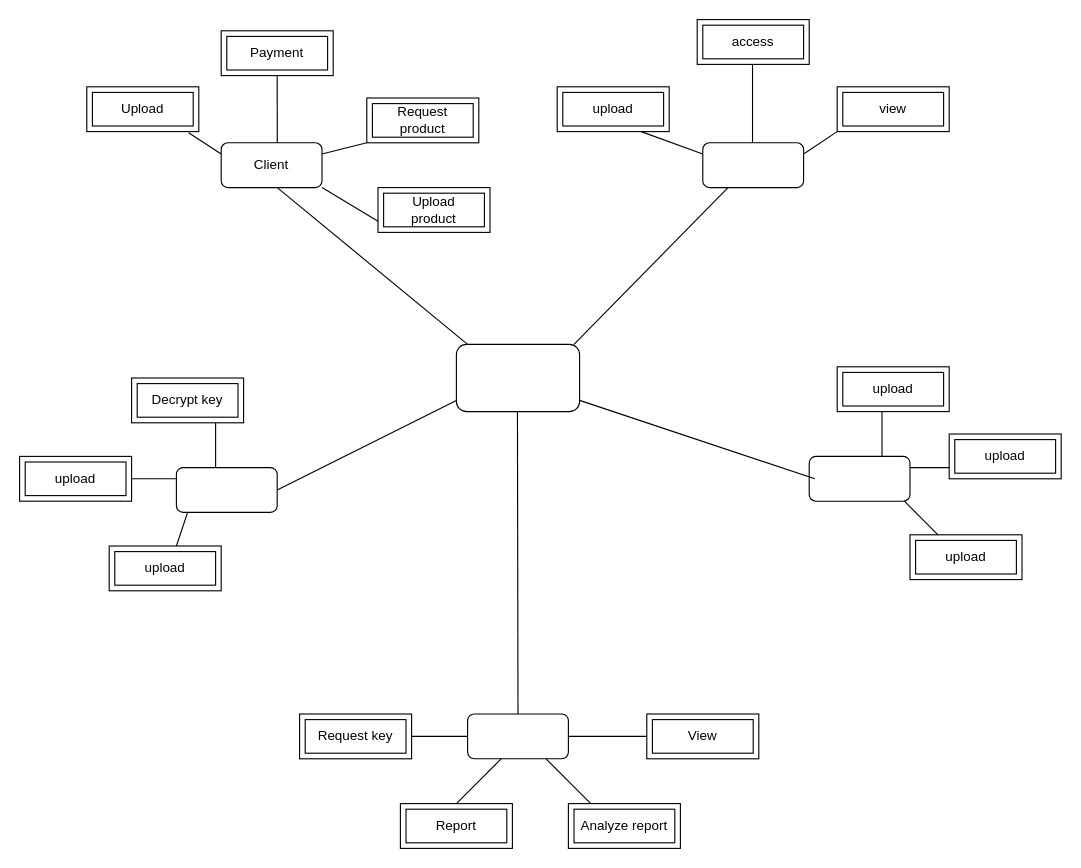
This 1081x868 diagram has some shape labels left out. Each missing label, with the centre of its shape:
"Admin" goes at (x=753, y=165).
"Analyzer" goes at (x=517, y=736).
"Boltz" goes at (x=859, y=478).
"Data encryption standard algorithm" goes at (x=517, y=377).
"Super admin" goes at (x=226, y=489).
